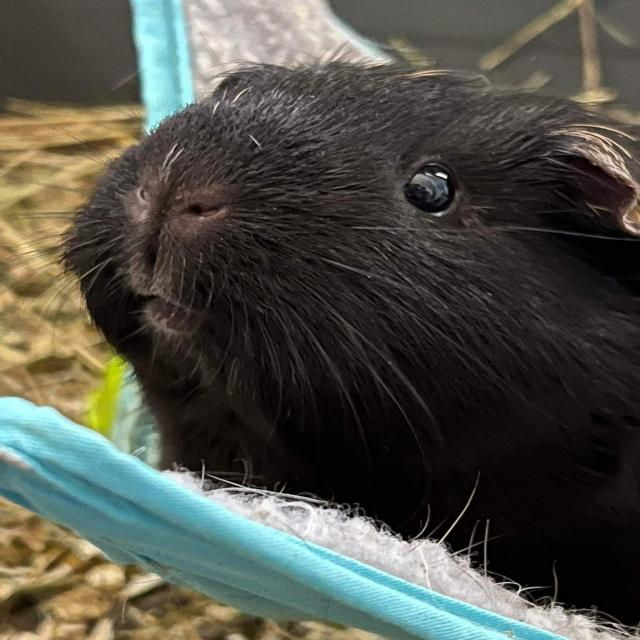guinea pig: (56, 54, 640, 609)
